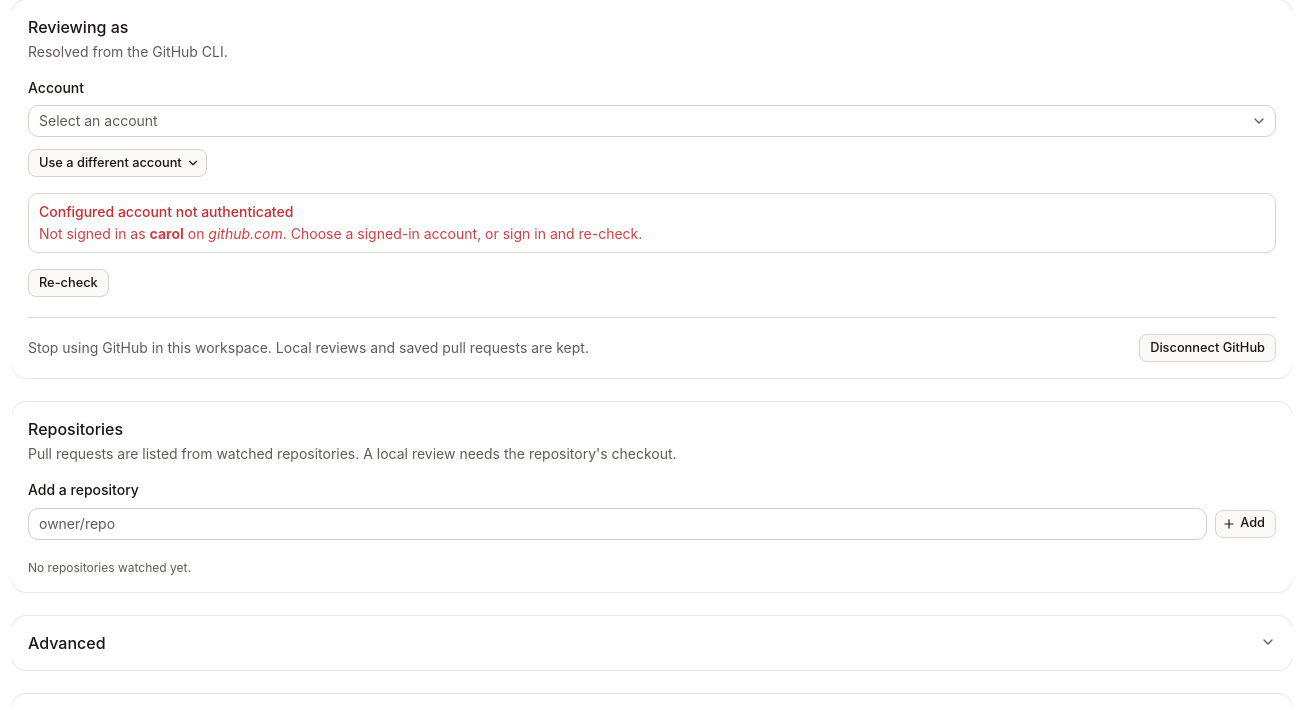
Reviewing as panel › does not overwrite an already-configured account on adoption, for several authenticated accounts
Expected: the dropdown named "Reviewing as account" is shown, [28,105,1276,137]
Click the button "Use a different account". click: [117, 163]
box: [28,149,207,177]
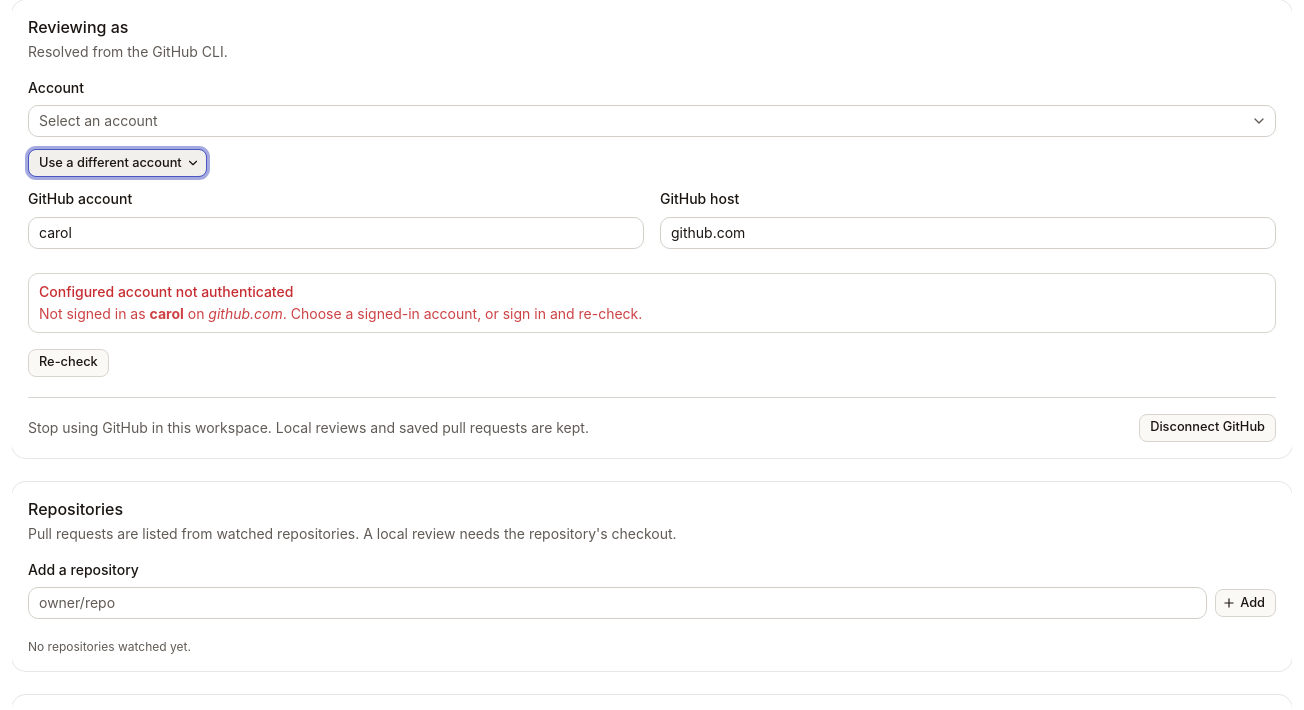
Expected: the field labelled "GitHub account" holds "carol", [28,216,644,248]
Expected: the field labelled "GitHub host" holds "github.com", [660,216,1276,248]
